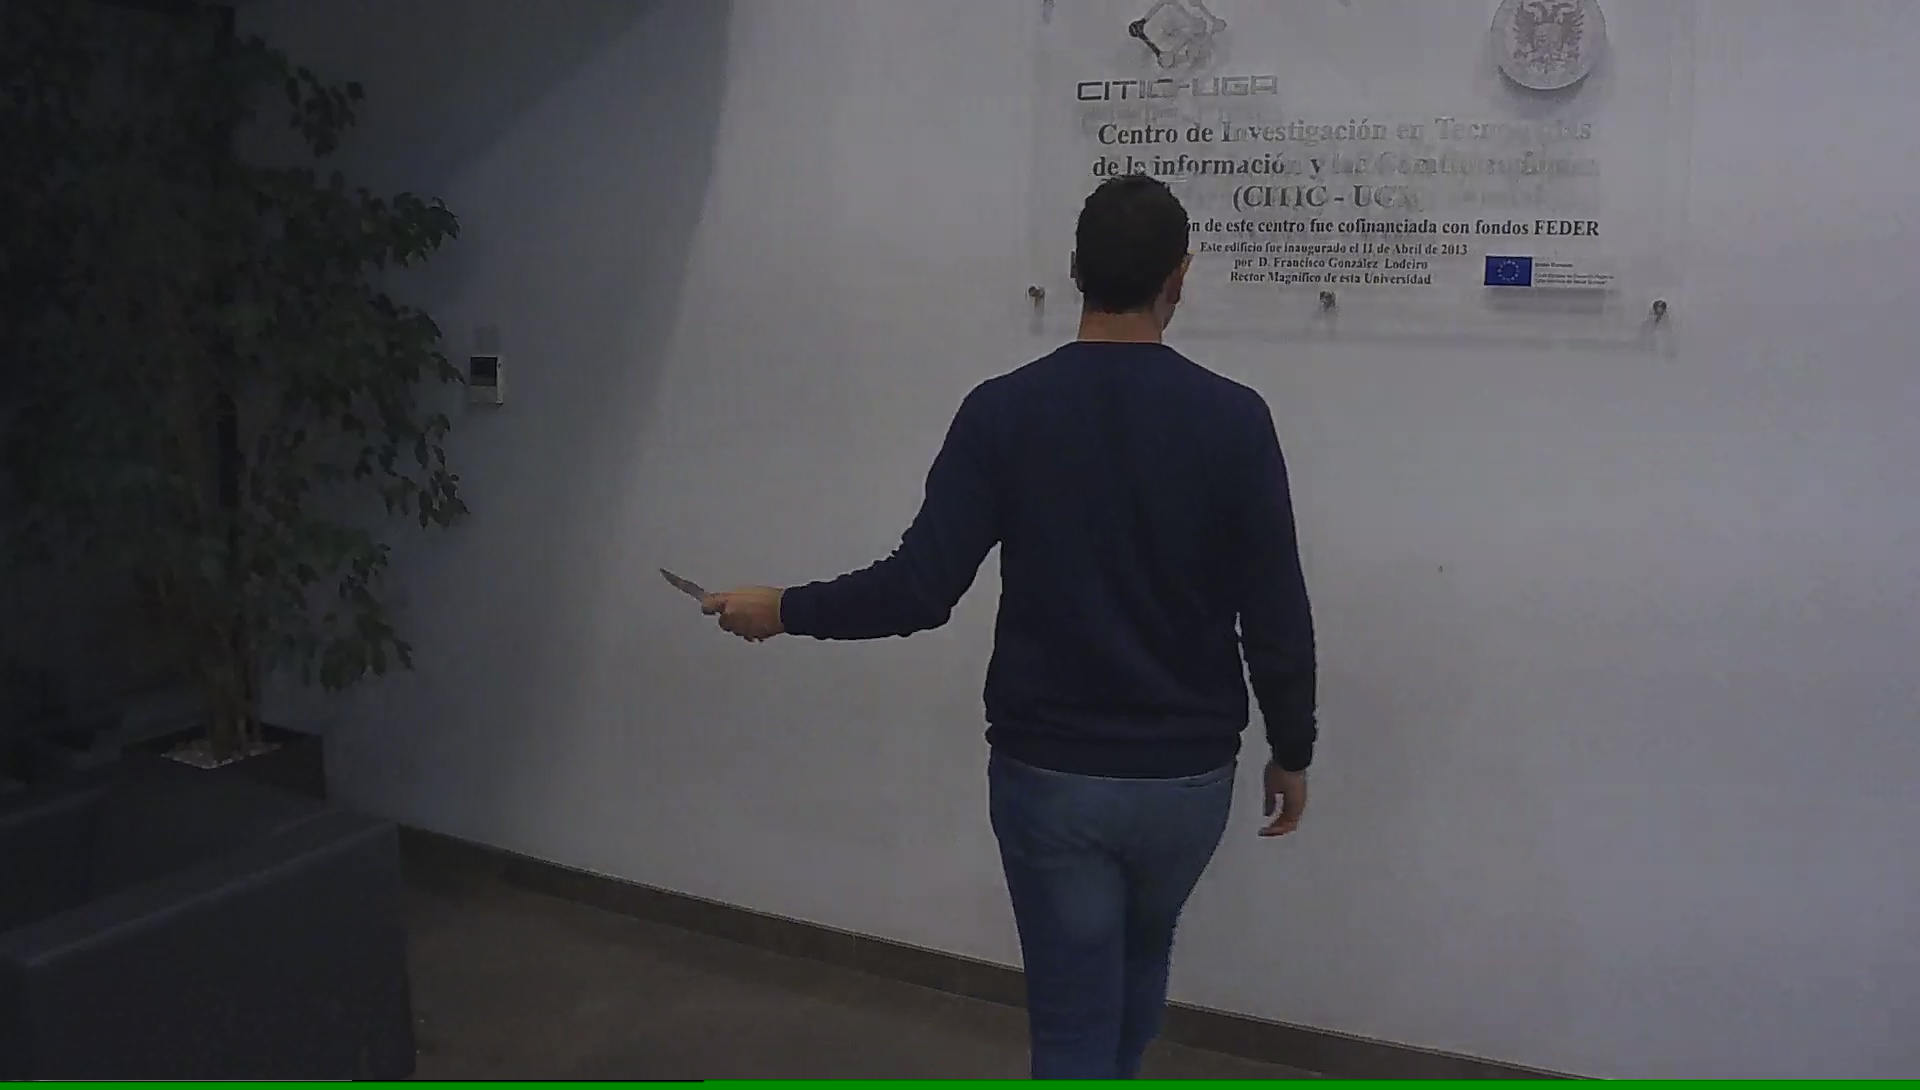knife: (653, 558, 746, 637)
